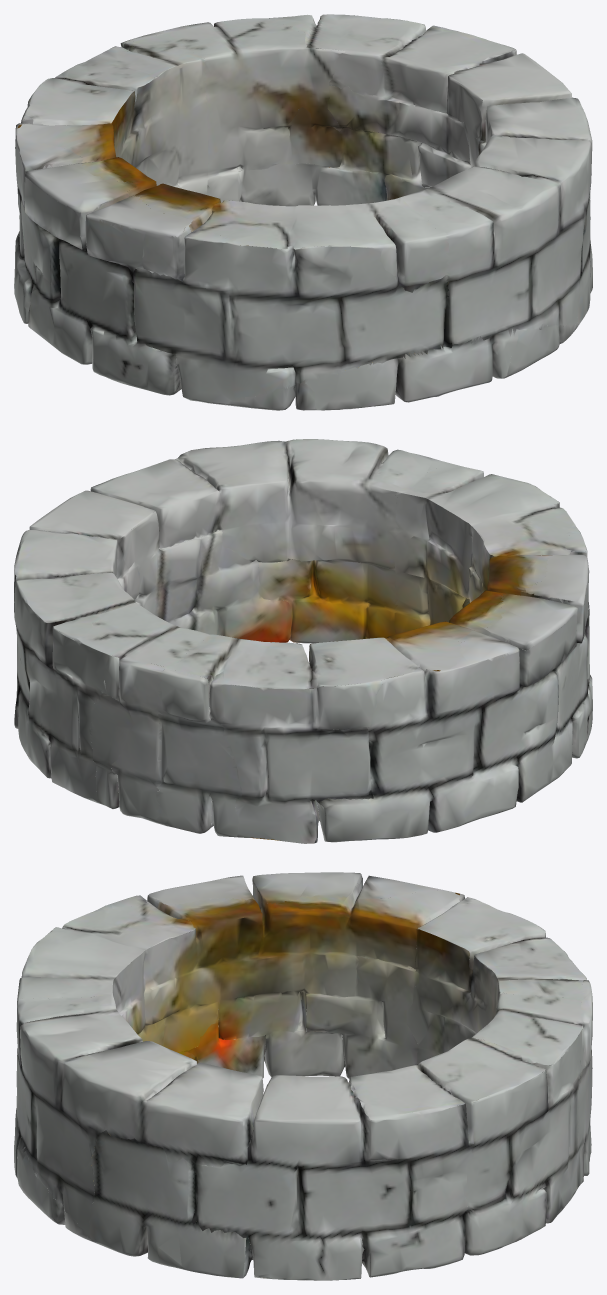
The model's file is pozzo.glb.
3 renders of one model, top to bottom at view 1: azimuth 30°, elevation 25°; view 2: azimuth 150°, elevation 25°; view 3: azimuth 270°, elevation 25°, orthographic.
Parts seen in each view (by area): view 1: pozzo; view 2: pozzo; view 3: pozzo.
Part boxes in pixels (<box>): pozzo: <box>14,14,592,410</box>; pozzo: <box>14,439,592,843</box>; pozzo: <box>14,872,592,1280</box>.
Bounding box in the file's own units: 0.2688 × 0.085 × 0.263.
1 material, 1 textured.
